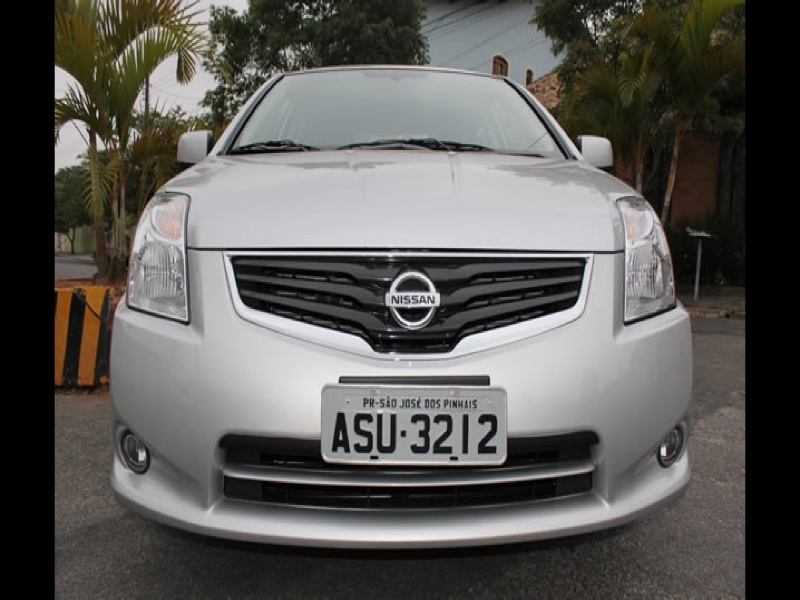placa: (316, 377, 513, 473)
